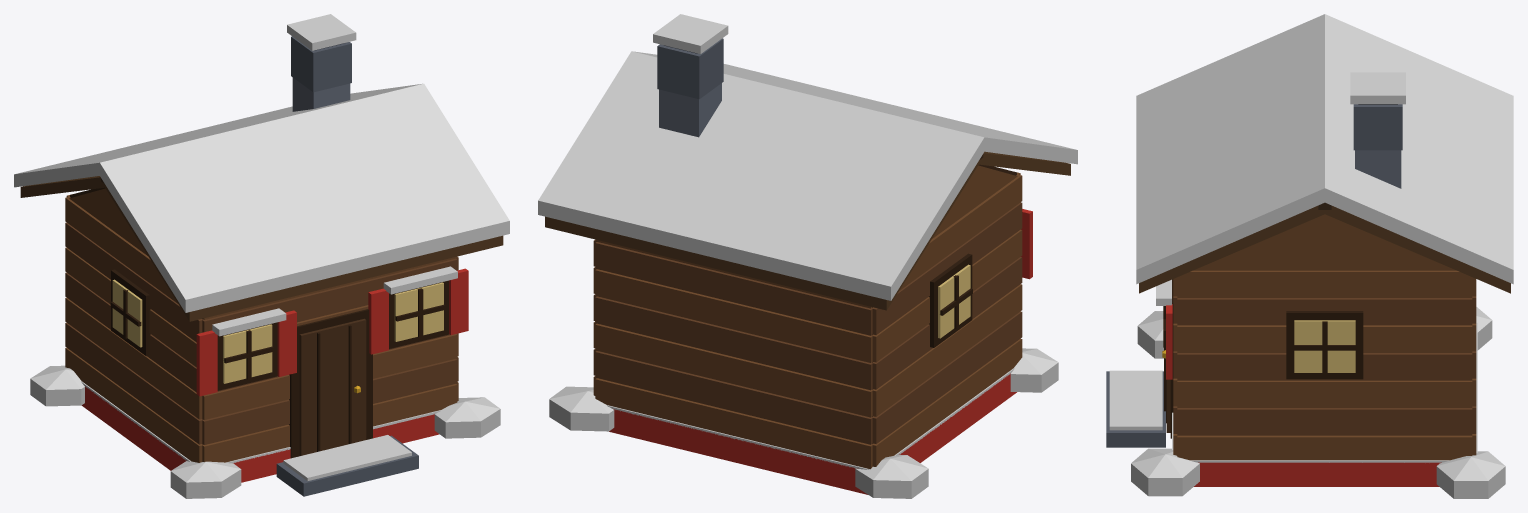
Rendered from prop_cabin.glb.
3 views of the same model, side by side, from view 1: azimuth 30°, elevation 25°; view 2: azimuth 150°, elevation 25°; view 3: azimuth 270°, elevation 25° (orthographic). The views are drawn at different scales.
Visible parts, largest first — view 1: cabin; view 2: cabin; view 3: cabin.
Boxes of the visible parts, x1,y1,x2,y2 form: cabin: (14, 14, 509, 498); cabin: (538, 14, 1077, 498); cabin: (1106, 14, 1513, 498).
Size of the model in its own units: 3.12 by 3.16 by 3.06.
